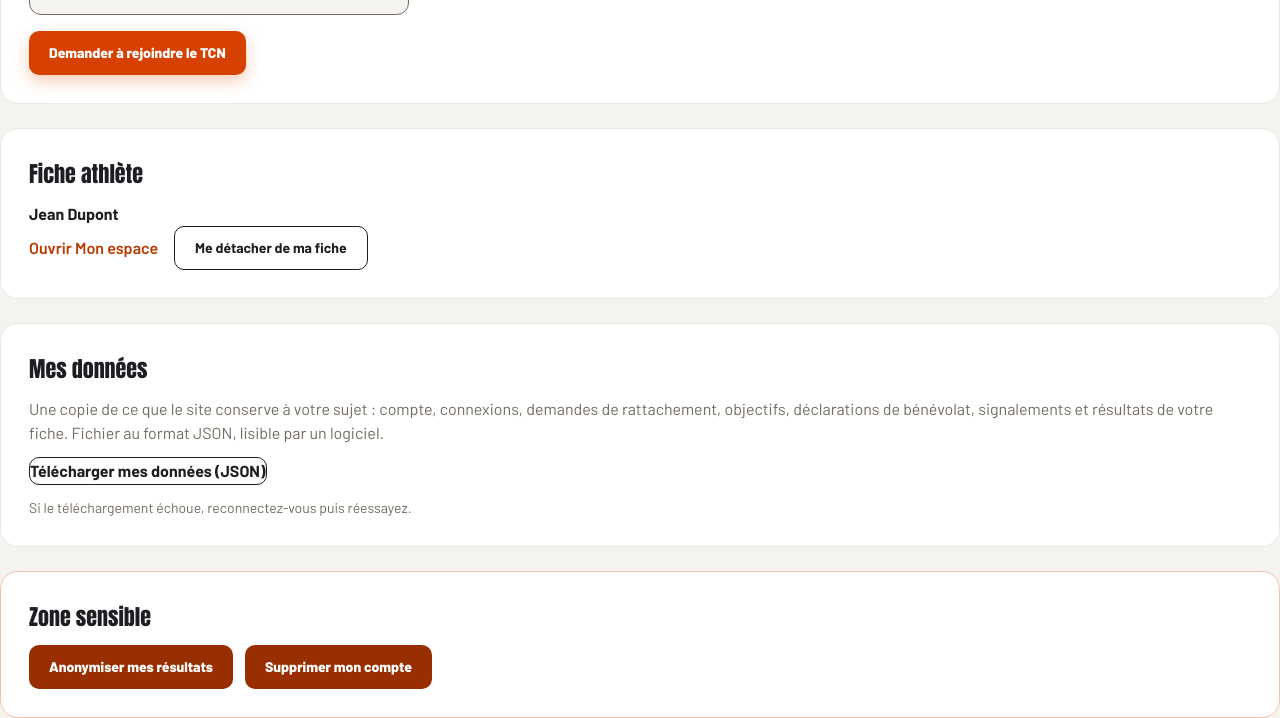
Test: AccountPage: anonymise my results (#1673) › sends the member to the club, without confirmation, for several records
(page scrolled)
Click the button "Anonymiser mes résultats": point(131, 667) x1=29 y1=645 x2=233 y2=689
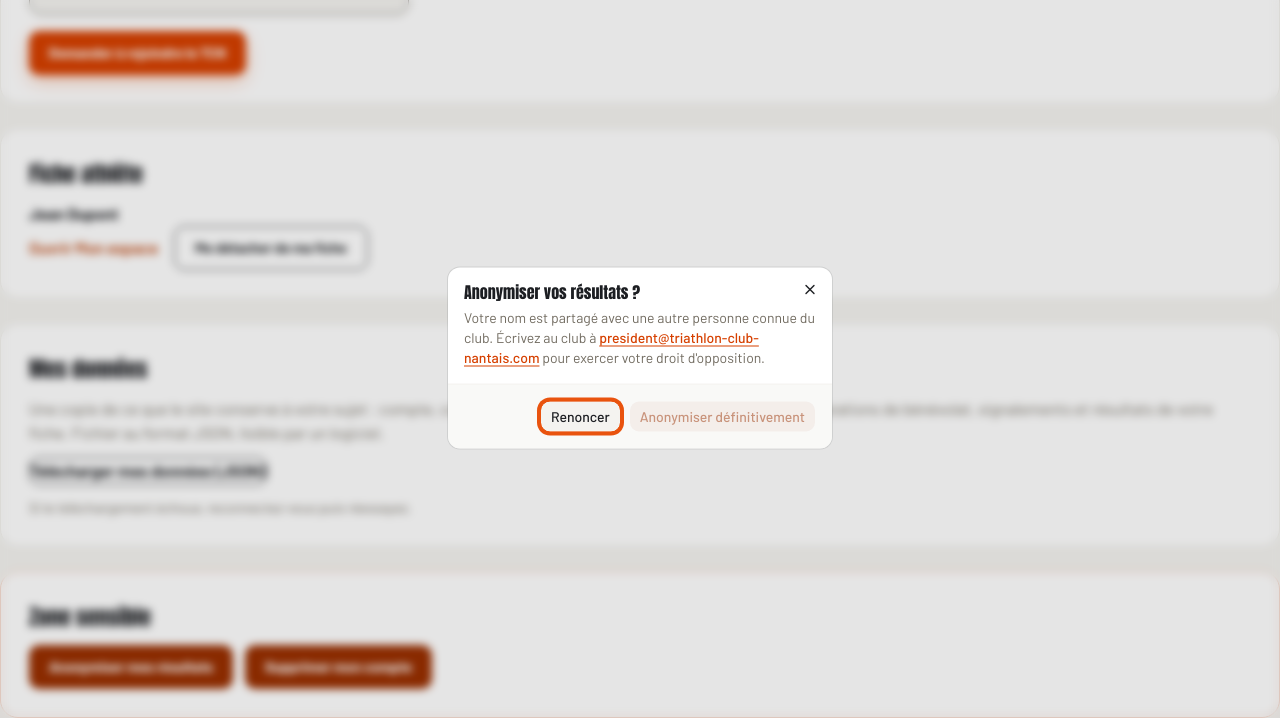
Check: the dialog shows "Écrivez au club", box x1=496 y1=328 x2=599 y2=346
Check: the button "Anonymiser définitivement" is disabled, box x1=629 y1=400 x2=816 y2=432
